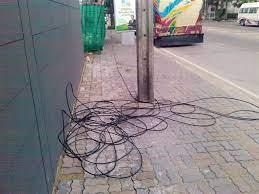wires: (73, 108, 137, 159)
